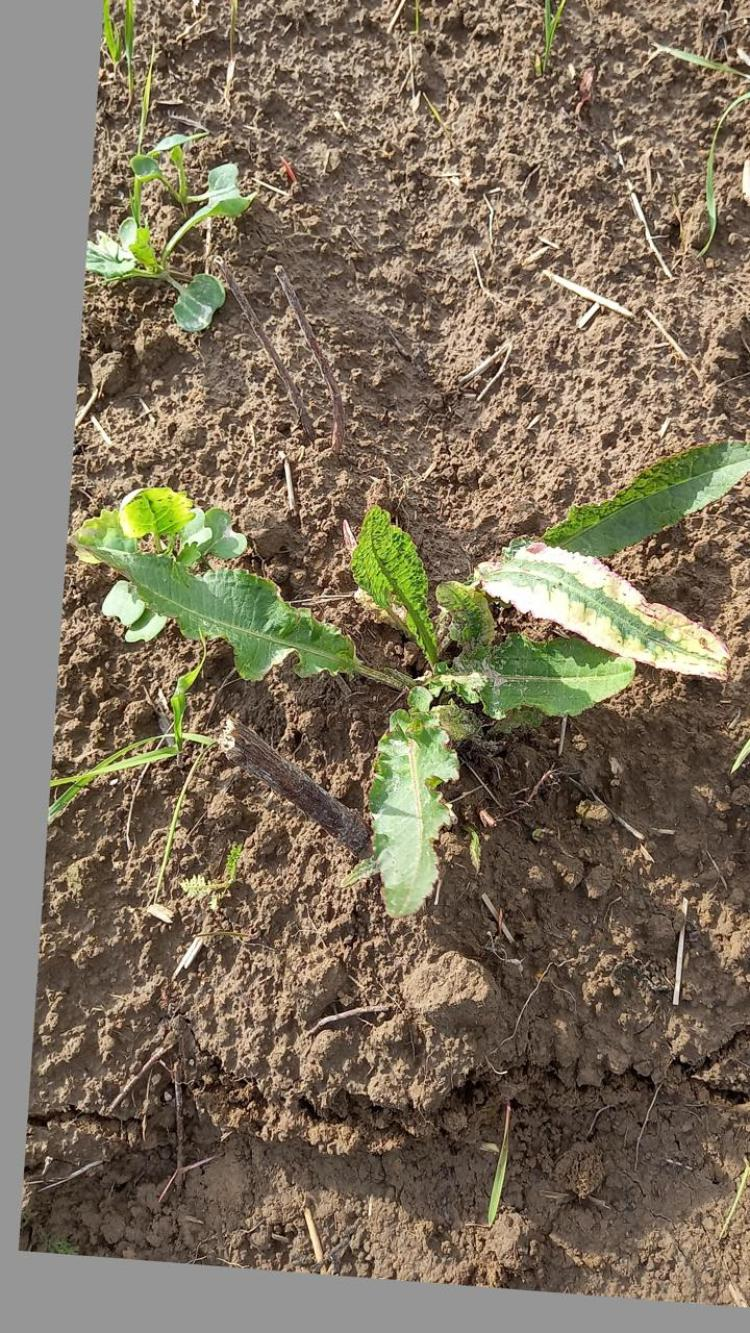zhavel: (79, 444, 750, 919)
